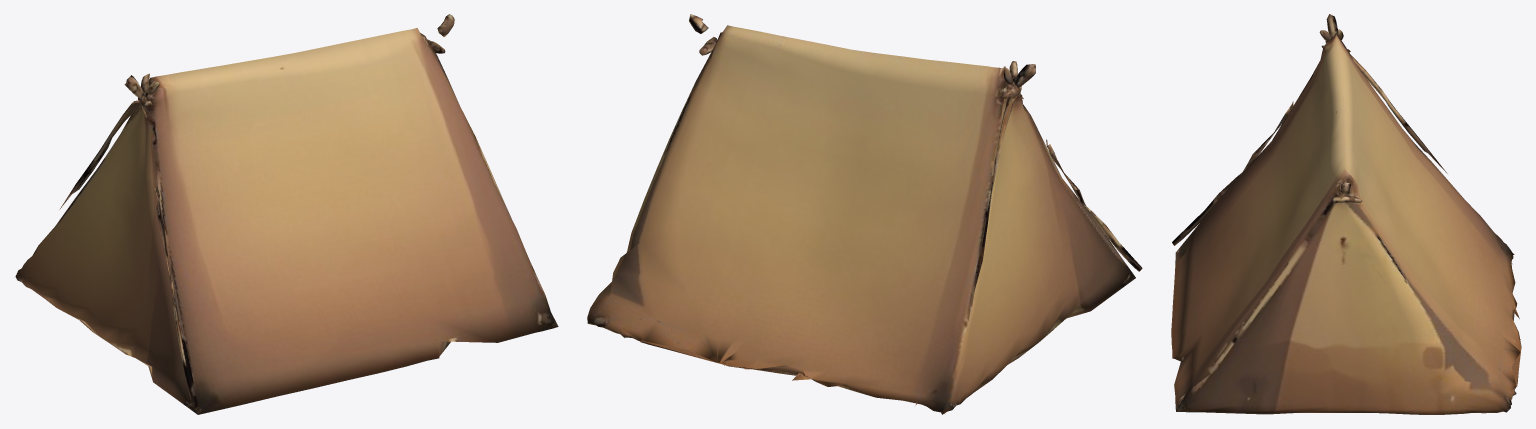
File: camp.glb
3 renders of one model, left to right at view 1: azimuth 30°, elevation 25°; view 2: azimuth 150°, elevation 25°; view 3: azimuth 270°, elevation 25°, orthographic. The views are drawn at different scales.
Parts seen in each view (by area): view 1: tripo_node_42b82db2-164c-4fd3-b53c-b65051739da5; view 2: tripo_node_42b82db2-164c-4fd3-b53c-b65051739da5; view 3: tripo_node_42b82db2-164c-4fd3-b53c-b65051739da5.
Boxes of the visible parts, x1,y1,x2,y2 form: tripo_node_42b82db2-164c-4fd3-b53c-b65051739da5: (15, 14, 558, 414); tripo_node_42b82db2-164c-4fd3-b53c-b65051739da5: (587, 14, 1142, 414); tripo_node_42b82db2-164c-4fd3-b53c-b65051739da5: (1171, 14, 1521, 414).
Bounding box in the file's own units: 0.8994 × 0.6233 × 0.8054.
1 material, 1 textured.
